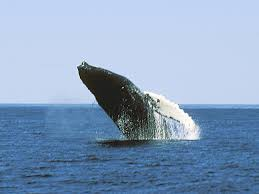humpback: (76, 61, 173, 140)
